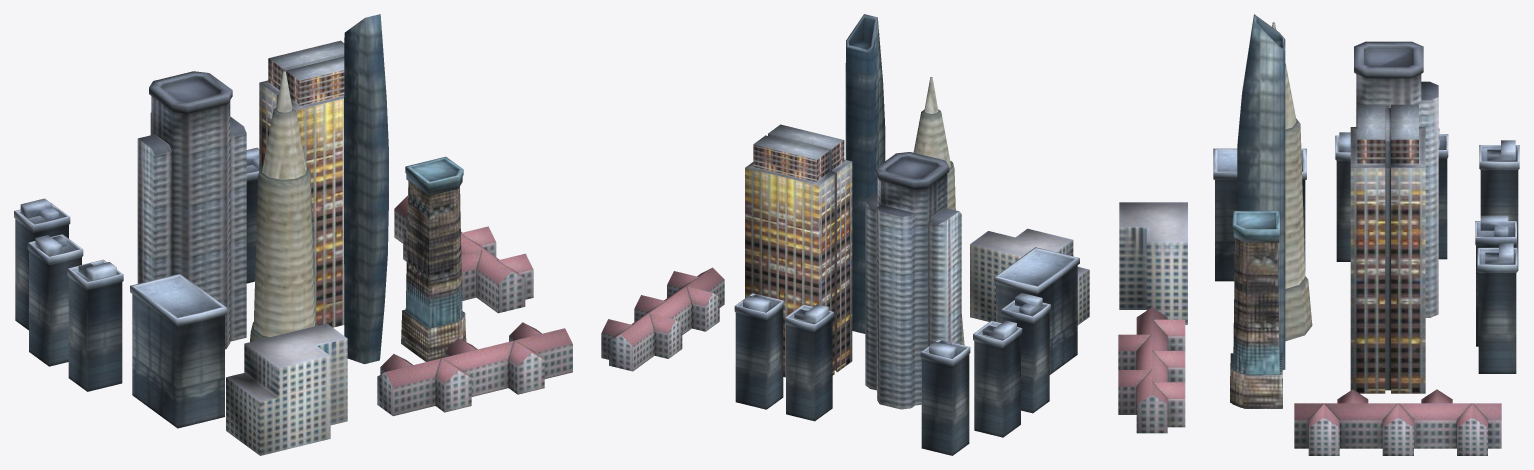
File: city_postmodern_2.glb
The picture shows the model from 3 angles, left to right: view 1: azimuth 30°, elevation 25°; view 2: azimuth 150°, elevation 25°; view 3: azimuth 270°, elevation 25°; orthographic projection. The views are drawn at different scales.
Parts seen in each view (by area): view 1: 16_low.043, 16_low.048, 16_low.046, 16_low.047, 16_low.049, 16_low.044, 16_low.059, 16_low.045, 16_low.052, 16_low.053, 16_low.051, 16_low.057 (+1 smaller); view 2: 16_low.043, 16_low.047, 16_low.048, 16_low.051, 16_low.049, 16_low.057, 16_low.055, 16_low.058, 16_low.053, 16_low.046, 16_low.052, 16_low.044; view 3: 16_low.047, 16_low.051, 16_low.059, 16_low.048, 16_low.043, 16_low.046, 16_low.045, 16_low.055, 16_low.044, 16_low.049, 16_low.057, 16_low.052 (+2 smaller).
Part boxes in pixels (<box>): 16_low.043: <box>137,71,246,349</box>; 16_low.048: <box>344,14,388,364</box>; 16_low.046: <box>226,323,347,455</box>; 16_low.047: <box>259,40,344,327</box>; 16_low.049: <box>130,273,227,428</box>; 16_low.044: <box>250,70,317,341</box>; 16_low.059: <box>401,156,466,361</box>; 16_low.045: <box>377,322,572,416</box>; 16_low.052: <box>67,259,123,391</box>; 16_low.053: <box>27,234,83,366</box>; 16_low.051: <box>394,195,533,313</box>; 16_low.057: <box>14,198,70,330</box>; 16_low.043: <box>865,152,961,409</box>; 16_low.047: <box>745,124,852,377</box>; 16_low.048: <box>845,14,885,333</box>; 16_low.051: <box>601,267,724,371</box>; 16_low.049: <box>994,247,1079,374</box>; 16_low.057: <box>920,339,970,455</box>; 16_low.055: <box>734,293,784,409</box>; 16_low.058: <box>784,304,833,421</box>; 16_low.053: <box>973,320,1022,437</box>; 16_low.046: <box>970,228,1089,325</box>; 16_low.052: <box>1001,293,1050,413</box>; 16_low.044: <box>913,77,964,345</box>; 16_low.047: <box>1350,104,1425,393</box>; 16_low.051: <box>1294,389,1501,455</box>; 16_low.059: <box>1230,210,1282,408</box>; 16_low.048: <box>1237,14,1285,369</box>; 16_low.043: <box>1354,41,1438,317</box>; 16_low.046: <box>1119,202,1187,324</box>; 16_low.045: <box>1118,307,1185,433</box>; 16_low.055: <box>1477,243,1517,373</box>; 16_low.044: <box>1272,22,1312,341</box>; 16_low.049: <box>1213,148,1306,281</box>; 16_low.057: <box>1479,140,1519,270</box>; 16_low.052: <box>1335,132,1350,261</box>.
Bounding box in the file's own units: 2.65 × 2.03 × 2.12.
4 materials, 4 textured.
